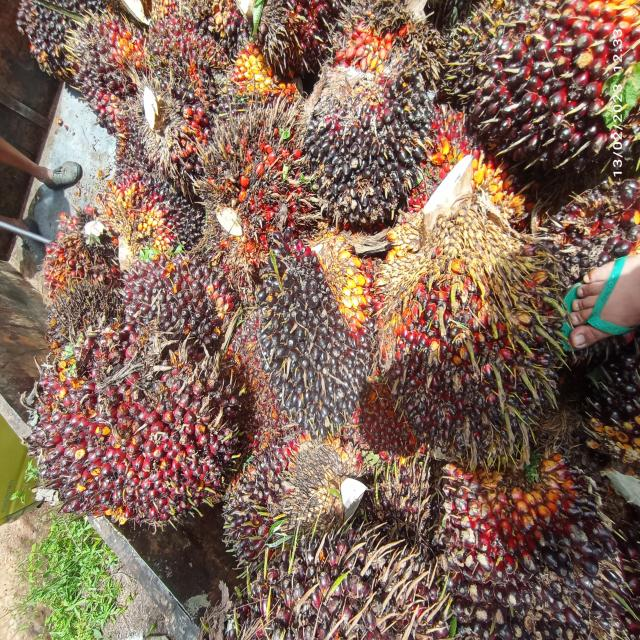fraksi 00: (434, 434, 640, 640), (276, 63, 442, 251), (248, 220, 384, 436), (98, 163, 208, 270)
fraksi 1: (372, 207, 561, 463), (446, 0, 640, 184), (209, 430, 386, 571), (126, 12, 242, 176), (120, 250, 241, 363), (60, 9, 164, 115)
fraksi 3: (18, 292, 244, 539), (35, 214, 126, 320)
fraksi 4: (190, 93, 310, 252)
